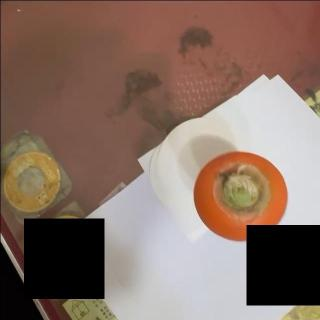carrot: (193, 149, 289, 242)
